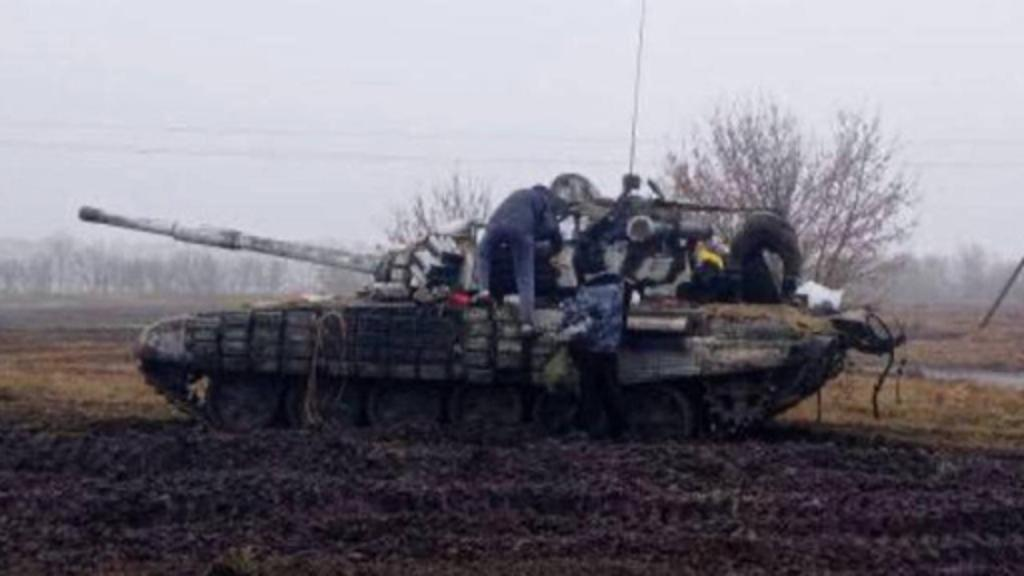TANK: (68, 166, 870, 452)
